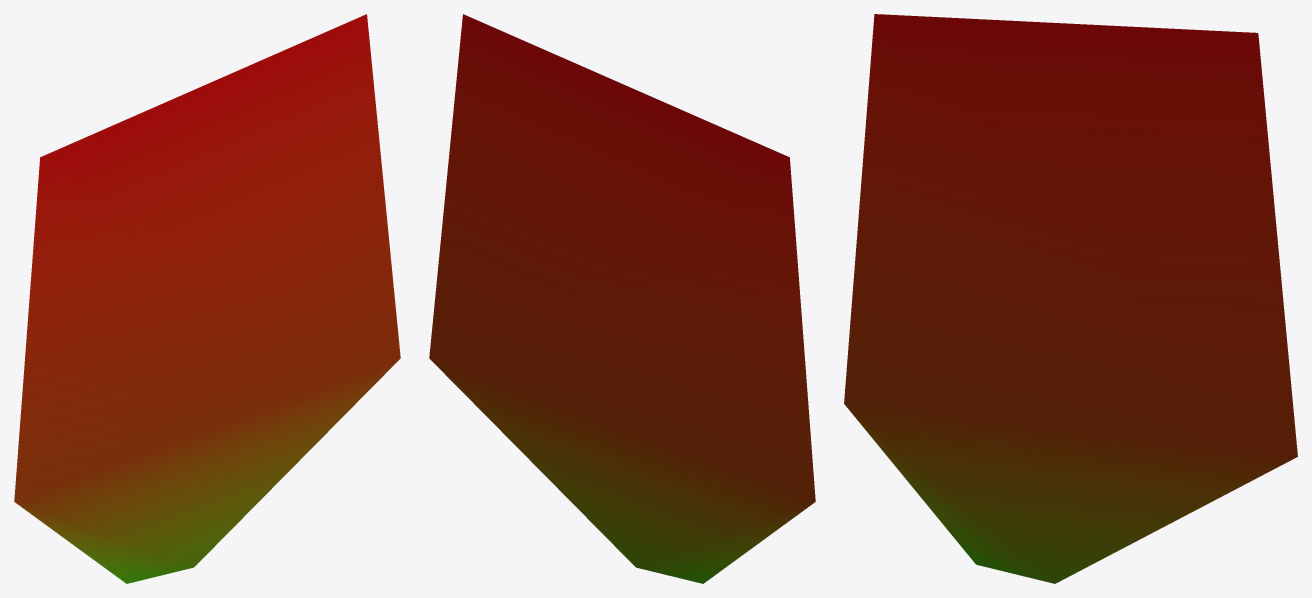
Rendered from Giant Reed_LOD3_Var1_sjllX.fbx.
The picture shows the model from 3 angles, left to right: view 1: azimuth 30°, elevation 25°; view 2: azimuth 150°, elevation 25°; view 3: azimuth 330°, elevation 25°; orthographic projection. The views are drawn at different scales.
Visible parts, largest first — view 1: _5b32_Var1_LOD3; view 2: _5b32_Var1_LOD3; view 3: _5b32_Var1_LOD3.
Boxes of the visible parts, bbox=[...] form: _5b32_Var1_LOD3: bbox=[14, 14, 400, 583]; _5b32_Var1_LOD3: bbox=[429, 14, 815, 583]; _5b32_Var1_LOD3: bbox=[844, 14, 1297, 583].
Bounding box in the file's own units: 208 × 263 × 2.55e-05.
